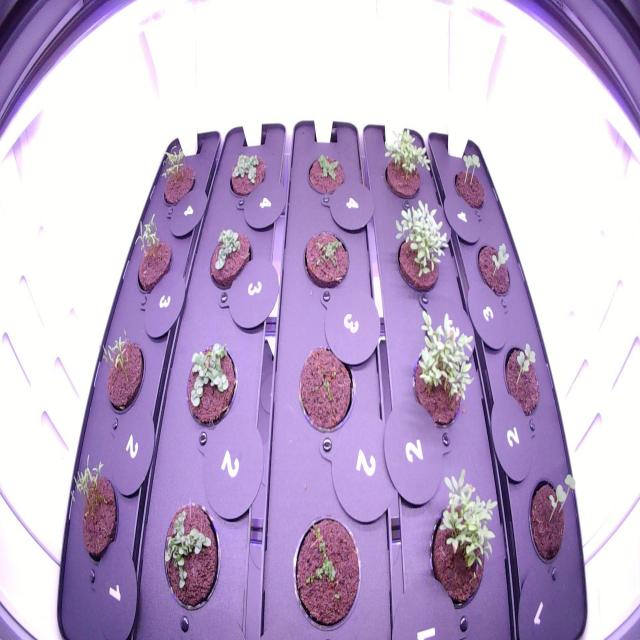germination: (421, 462, 500, 619), (282, 504, 367, 635), (406, 303, 481, 438), (157, 491, 225, 623), (64, 445, 128, 575), (524, 458, 582, 574), (388, 196, 452, 300), (90, 314, 148, 421), (180, 334, 241, 434), (376, 124, 436, 205), (130, 204, 178, 302), (500, 334, 548, 432), (295, 221, 354, 297), (149, 139, 202, 213), (206, 223, 256, 298), (473, 227, 515, 306), (448, 142, 489, 219), (223, 144, 270, 206), (303, 149, 349, 200)
pod: (290, 340, 362, 445)
